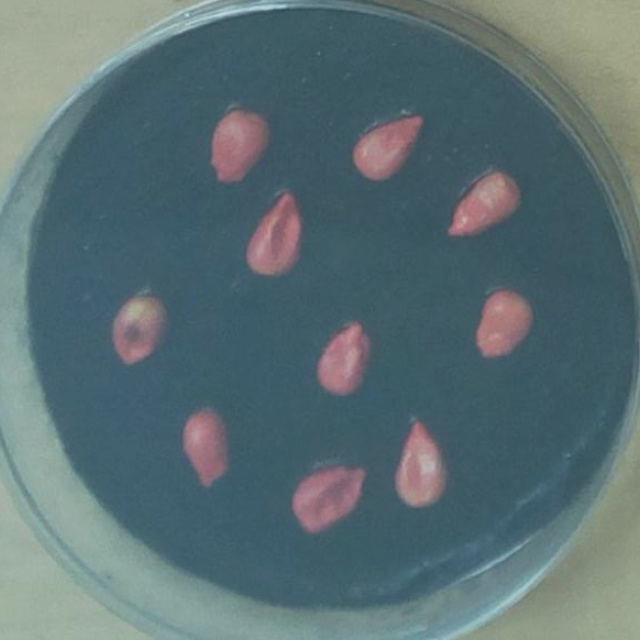Zea mays: (282, 458, 375, 542), (237, 182, 311, 285), (438, 164, 531, 245), (387, 412, 457, 518), (344, 106, 432, 190), (205, 103, 279, 193), (467, 281, 542, 368), (307, 314, 378, 405), (103, 288, 176, 375), (175, 400, 239, 498)
